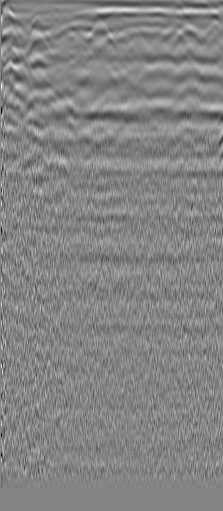오수: (23, 17, 49, 42)
우수: (170, 23, 204, 53)
